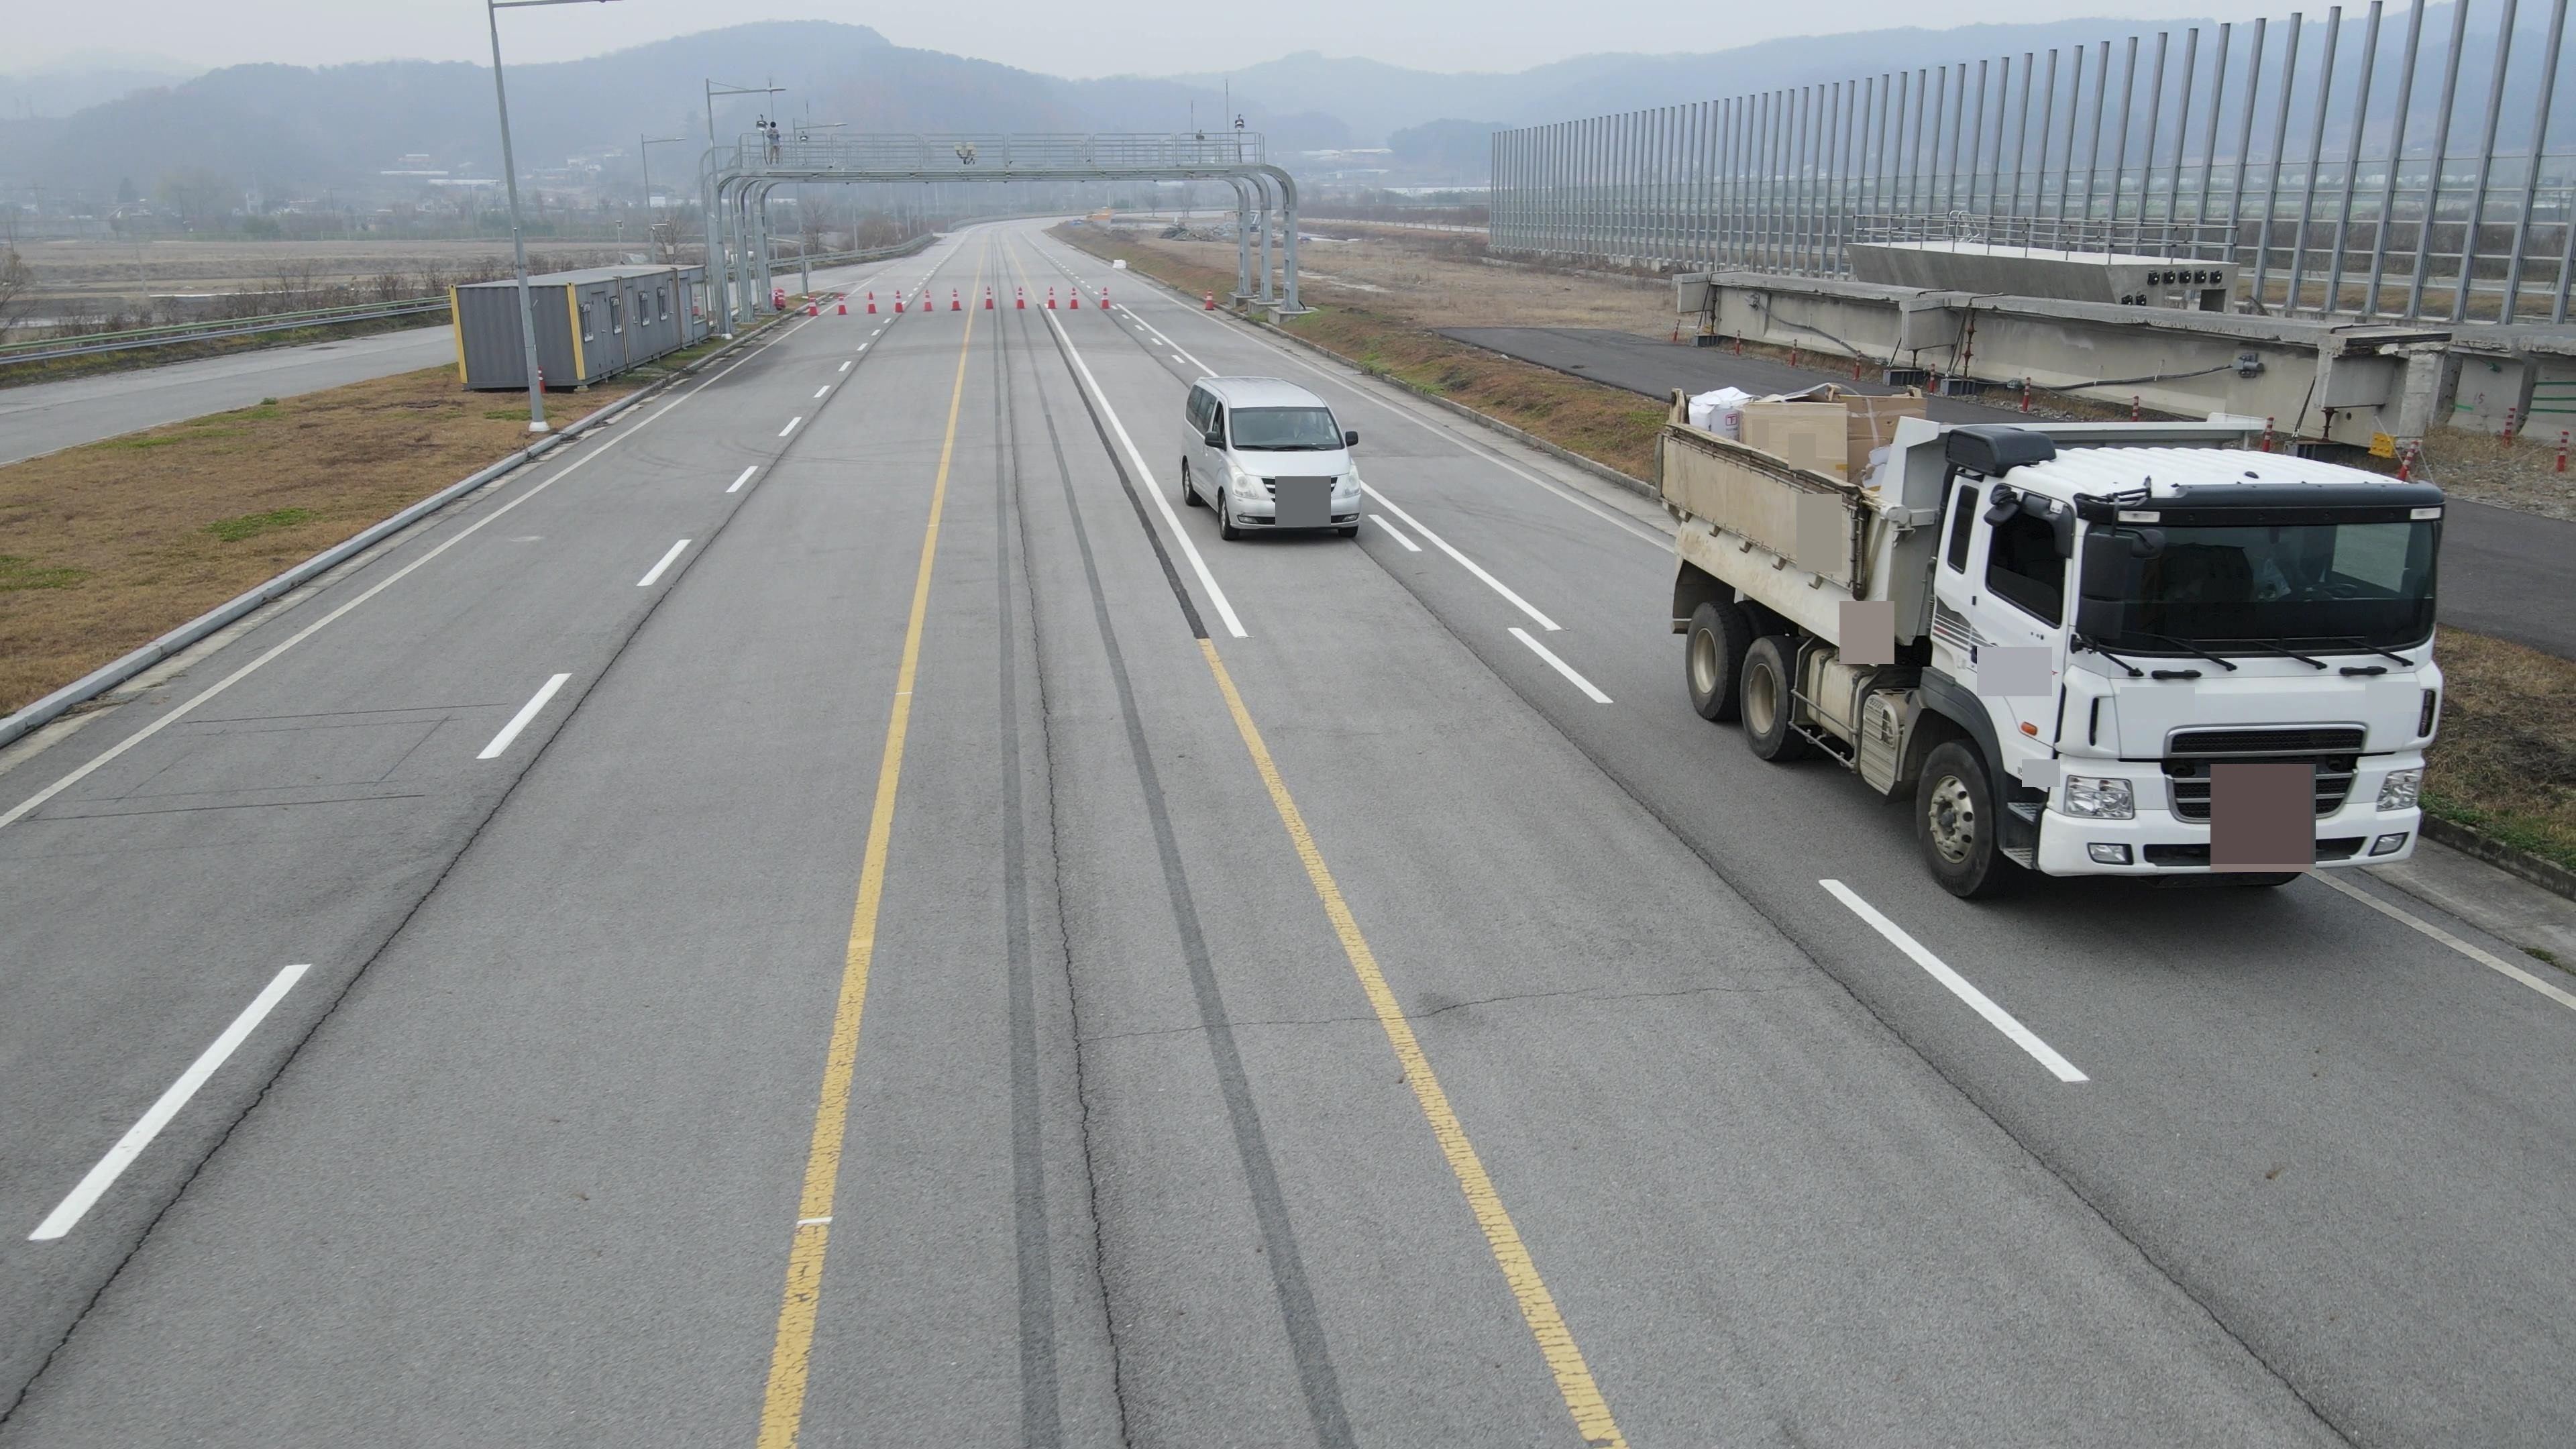불법차량: (1651, 380, 2447, 904)
